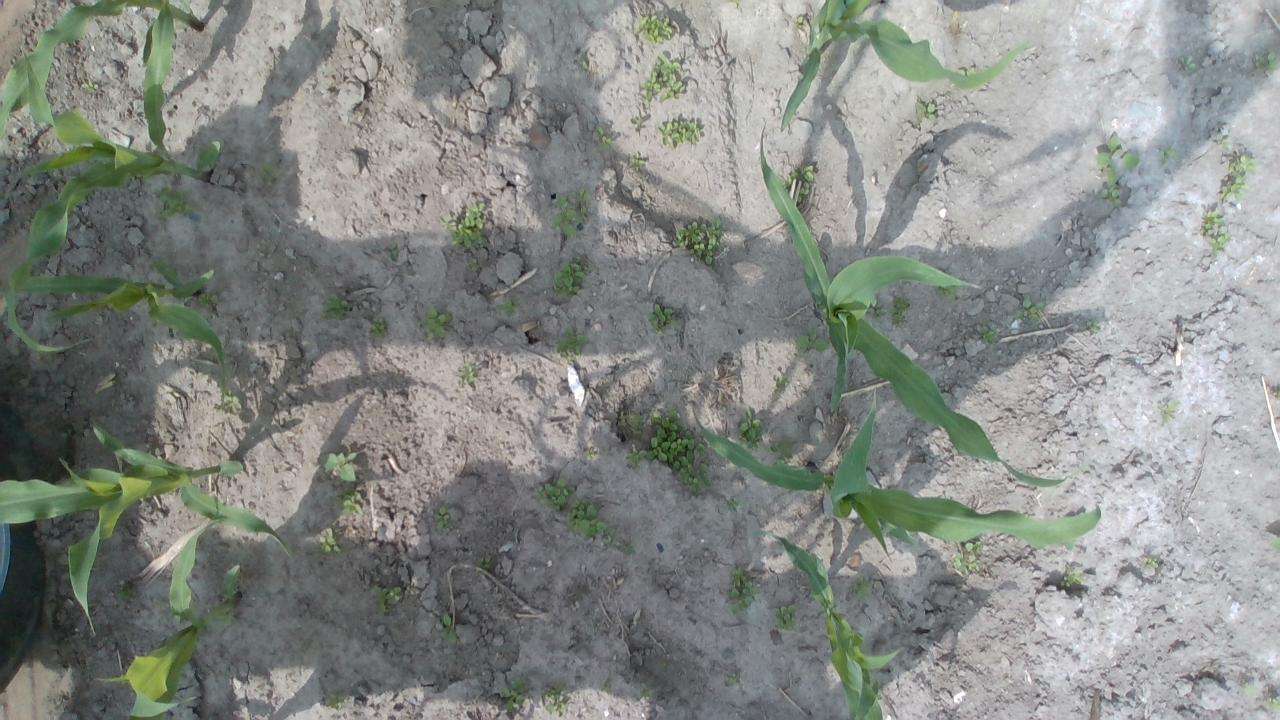Maize: (758, 122, 1094, 487), (7, 0, 220, 357), (682, 386, 1102, 564), (0, 418, 295, 632), (780, 0, 1034, 130), (6, 254, 230, 390), (748, 528, 906, 720), (95, 517, 240, 720), (0, 0, 204, 140)
Weeds: (646, 410, 711, 494), (1094, 132, 1140, 206), (671, 218, 726, 266), (638, 53, 686, 105), (440, 202, 488, 250), (550, 188, 594, 238), (565, 500, 615, 542), (1220, 154, 1260, 203), (551, 255, 596, 298), (725, 567, 760, 616), (1202, 210, 1234, 256), (154, 184, 194, 220), (318, 448, 358, 484), (534, 476, 574, 512), (659, 116, 703, 148), (634, 14, 675, 46), (554, 326, 588, 364), (736, 409, 765, 451), (782, 166, 814, 204), (332, 485, 366, 518), (318, 292, 354, 322), (951, 540, 981, 576), (796, 326, 830, 356), (422, 307, 452, 340), (501, 676, 528, 712), (646, 304, 678, 334), (372, 584, 402, 614), (542, 684, 570, 716), (1014, 295, 1044, 323), (196, 288, 222, 320), (772, 602, 798, 632), (216, 387, 242, 415), (258, 161, 284, 188), (770, 438, 794, 466), (1058, 564, 1084, 589), (317, 527, 340, 555), (890, 296, 910, 328), (850, 574, 874, 600), (439, 614, 458, 644), (492, 298, 520, 318), (1158, 143, 1180, 166), (616, 536, 640, 557), (624, 444, 646, 466), (1254, 52, 1278, 72), (596, 126, 615, 151), (934, 283, 960, 301), (456, 365, 478, 386), (916, 101, 938, 122), (324, 690, 347, 710), (434, 506, 453, 530), (867, 298, 887, 320), (116, 583, 138, 603), (770, 374, 789, 397), (368, 316, 386, 340), (1160, 399, 1178, 422), (980, 326, 998, 346), (1214, 132, 1232, 152), (216, 608, 238, 624), (628, 152, 644, 172), (1178, 54, 1198, 70), (1264, 693, 1280, 713), (630, 413, 644, 434), (476, 555, 492, 571), (728, 496, 744, 512), (639, 682, 654, 699), (1240, 682, 1258, 696), (1140, 556, 1160, 568), (724, 672, 740, 687), (1268, 534, 1280, 553), (388, 240, 399, 260), (956, 66, 976, 77), (792, 15, 804, 32), (222, 346, 232, 366), (80, 81, 98, 92), (1086, 319, 1102, 331), (468, 257, 479, 271), (630, 116, 644, 125), (619, 411, 627, 426), (602, 684, 612, 696), (585, 452, 596, 460), (581, 60, 589, 70), (656, 662, 668, 668)
